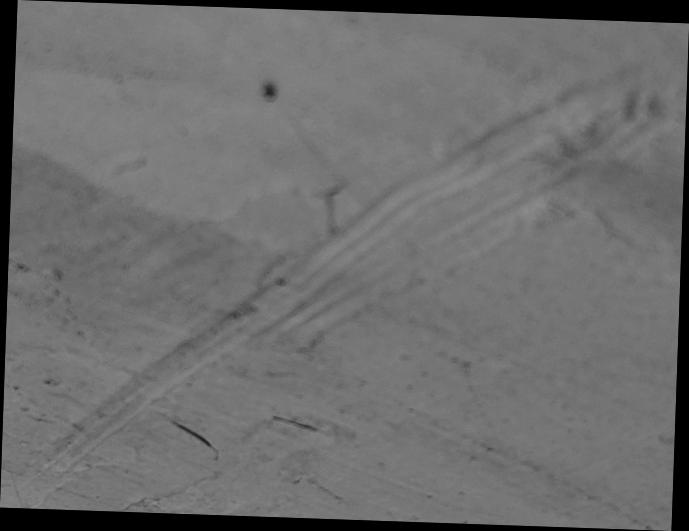scratch: (0, 1, 689, 531)
